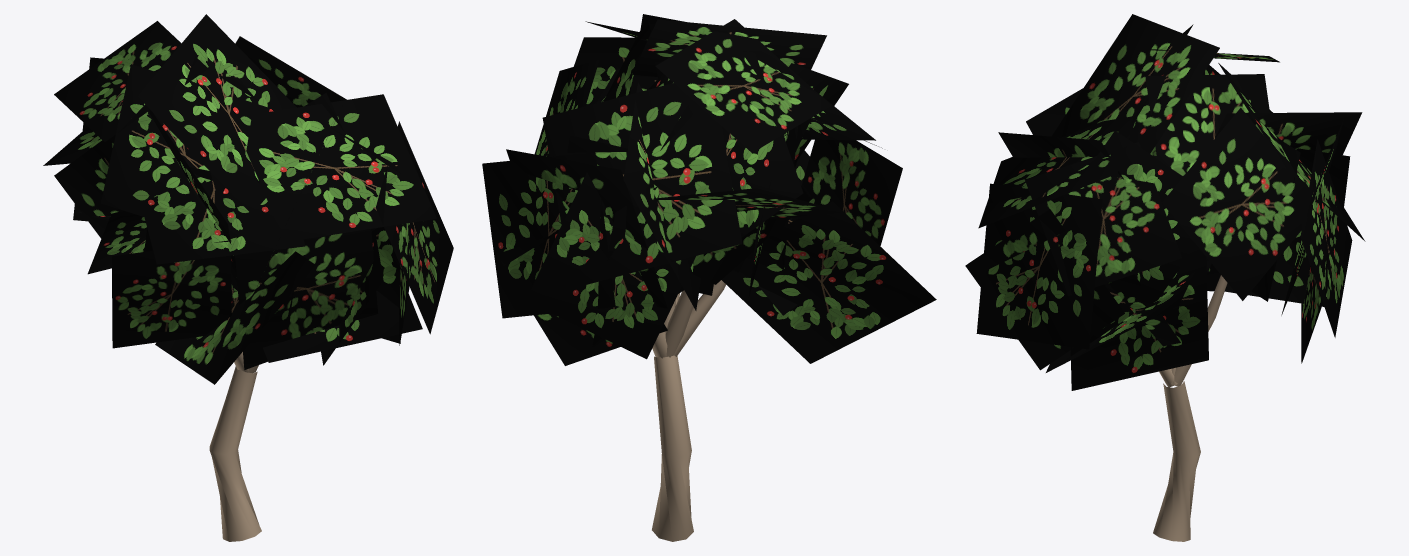
Rendered from malus-domestica.glb.
3 views of the same model, side by side, from view 1: azimuth 30°, elevation 25°; view 2: azimuth 150°, elevation 25°; view 3: azimuth 270°, elevation 25° (orthographic). The views are drawn at different scales.
Parts seen in each view (by area): view 1: folhas, tronco; view 2: folhas, tronco; view 3: folhas, tronco.
Boxes of the visible parts, box(x1,y1,x2,y2) form: folhas: box(43, 14, 453, 384); tronco: box(209, 352, 261, 541); folhas: box(482, 14, 936, 365); tronco: box(652, 280, 726, 541); folhas: box(965, 14, 1365, 390); tronco: box(1153, 275, 1227, 541).
Size of the model in its own units: 3.86 by 5 by 4.
2 materials, 1 textured.
